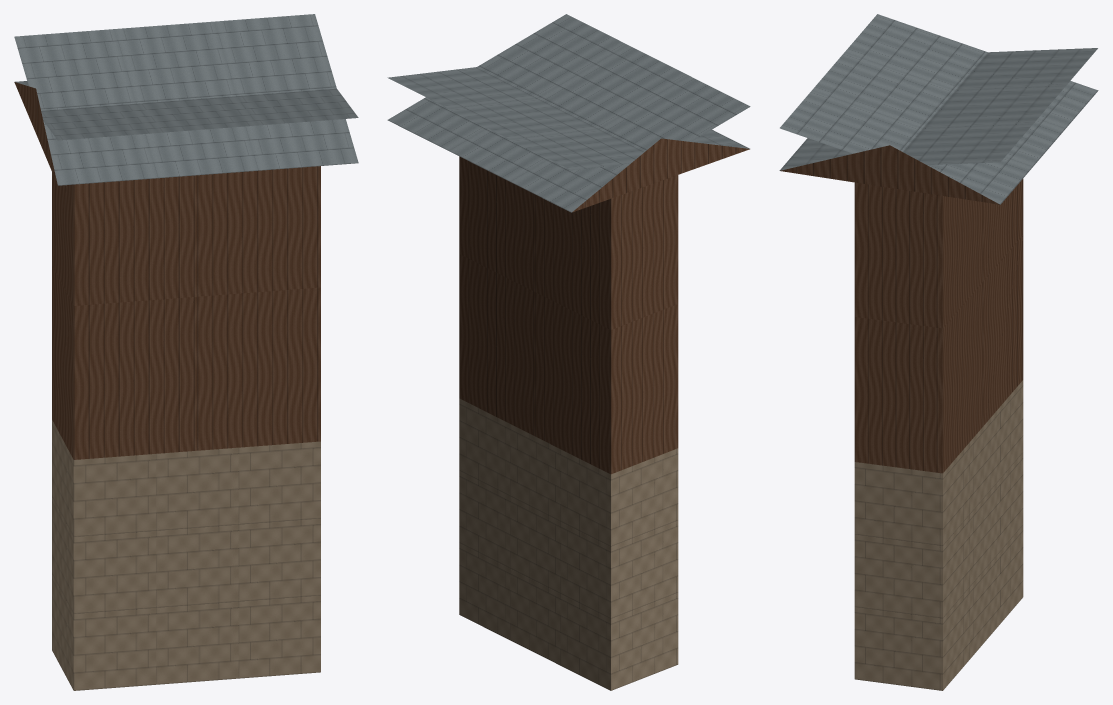
File: bld_c44_-39_413.gltf
3 renders of one model, left to right at view 1: azimuth 30°, elevation 25°; view 2: azimuth 150°, elevation 25°; view 3: azimuth 270°, elevation 25°, orthographic. The views are drawn at different scales.
Parts seen in each view (by area): view 1: bld_c44_-39_413; view 2: bld_c44_-39_413; view 3: bld_c44_-39_413.
Boxes of the visible parts, x1,y1,x2,y2 form: bld_c44_-39_413: (14, 14, 358, 690); bld_c44_-39_413: (387, 14, 750, 690); bld_c44_-39_413: (779, 14, 1098, 690).
Bounding box in the file's own units: 7.45 × 12.9 × 6.78.
4 materials, 4 textured.
